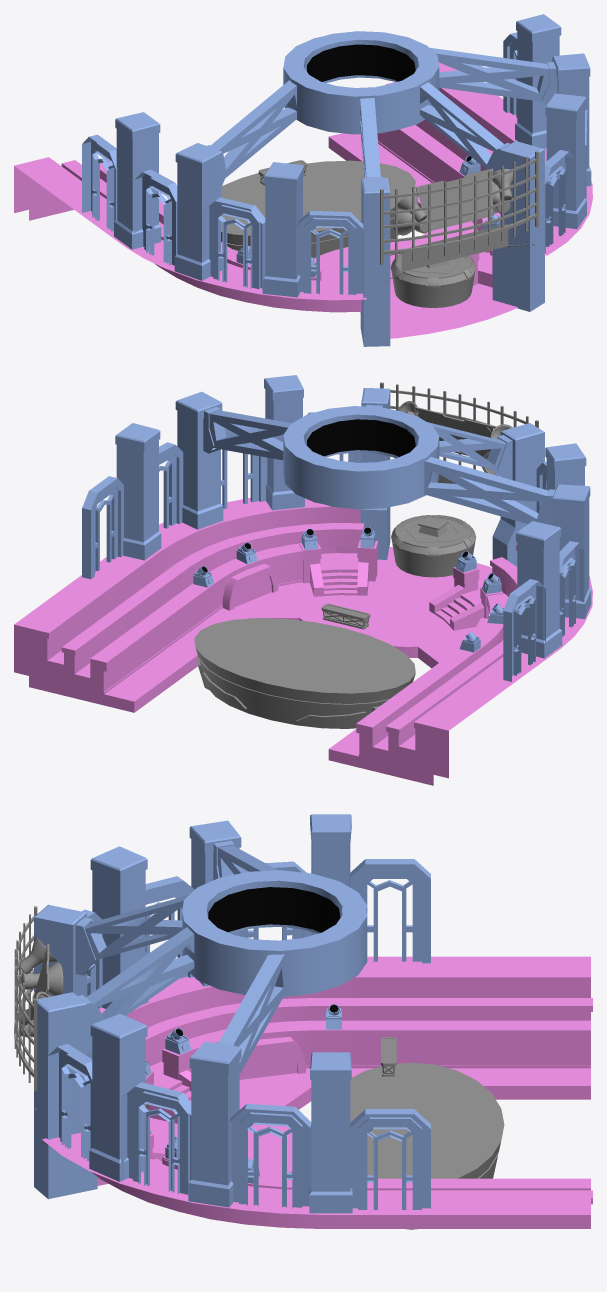
Rendered from NewStage.fbx.
3 renders of one model, top to bottom at view 1: azimuth 30°, elevation 25°; view 2: azimuth 150°, elevation 25°; view 3: azimuth 270°, elevation 25°, orthographic. The views are drawn at different scales.
Parts seen in each view (by area): view 1: Floor, Ceiling, Podium01 (×2), Main_Floor, column02_01, column01_05, column01_04, column02_02, column01_06, column01_03, Window004, Window005 (+10 smaller); view 2: Floor, Ceiling, Main_Floor, Podium01 (×2), column01_01, column01_02, column01_06, Window000, column01_05, Sign, column02_02, column01_03 (+9 smaller); view 3: Floor, Ceiling, Main_Floor, column02_01, column01_02, column01_03, column01_01, Window001, Window000, Window002, Sign, column01_04 (+11 smaller).
Boxes of the visible parts, box(x1,y1,x2,y2) form: Floor: box(14, 62, 592, 338); Ceiling: box(207, 31, 557, 188); Podium01 (×2): box(380, 151, 538, 307); Main_Floor: box(221, 160, 415, 257); column02_01: box(492, 141, 544, 311); column01_05: box(174, 143, 222, 280); column01_04: box(263, 162, 303, 297); column02_02: box(360, 177, 390, 346); column01_06: box(114, 112, 161, 249); column01_03: box(545, 93, 586, 229); Window004: box(297, 210, 363, 297); Window005: box(203, 197, 265, 292); Floor: box(14, 497, 592, 785); Ceiling: box(203, 405, 555, 525); Main_Floor: box(194, 618, 415, 728); Podium01 (×2): box(380, 382, 538, 577); column01_01: box(115, 423, 161, 560); column01_02: box(175, 391, 223, 529); column01_06: box(516, 521, 562, 658); Window000: box(82, 476, 123, 579); column01_05: box(552, 484, 591, 618); Sign: box(307, 419, 415, 456); column02_02: box(492, 423, 544, 566); column01_03: box(264, 375, 304, 510); Floor: box(42, 956, 592, 1228); Ceiling: box(75, 840, 367, 1074); Main_Floor: box(350, 1062, 504, 1229); column02_01: box(34, 992, 97, 1199); column01_02: box(188, 1041, 241, 1208); column01_03: box(89, 1013, 147, 1181); column01_01: box(309, 1052, 352, 1213); Window001: box(228, 1104, 311, 1208); Window000: box(349, 1109, 430, 1209); Window002: box(121, 1082, 191, 1194); Sign: box(208, 887, 340, 932); column01_04: box(90, 846, 148, 1008).
Size of the model in its own units: 2824 by 1349 by 2675.
